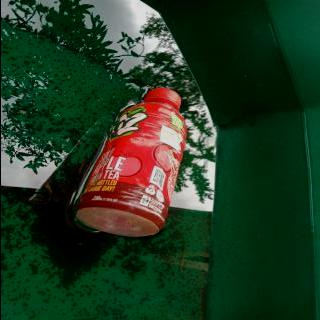bottle: (74, 86, 188, 239)
